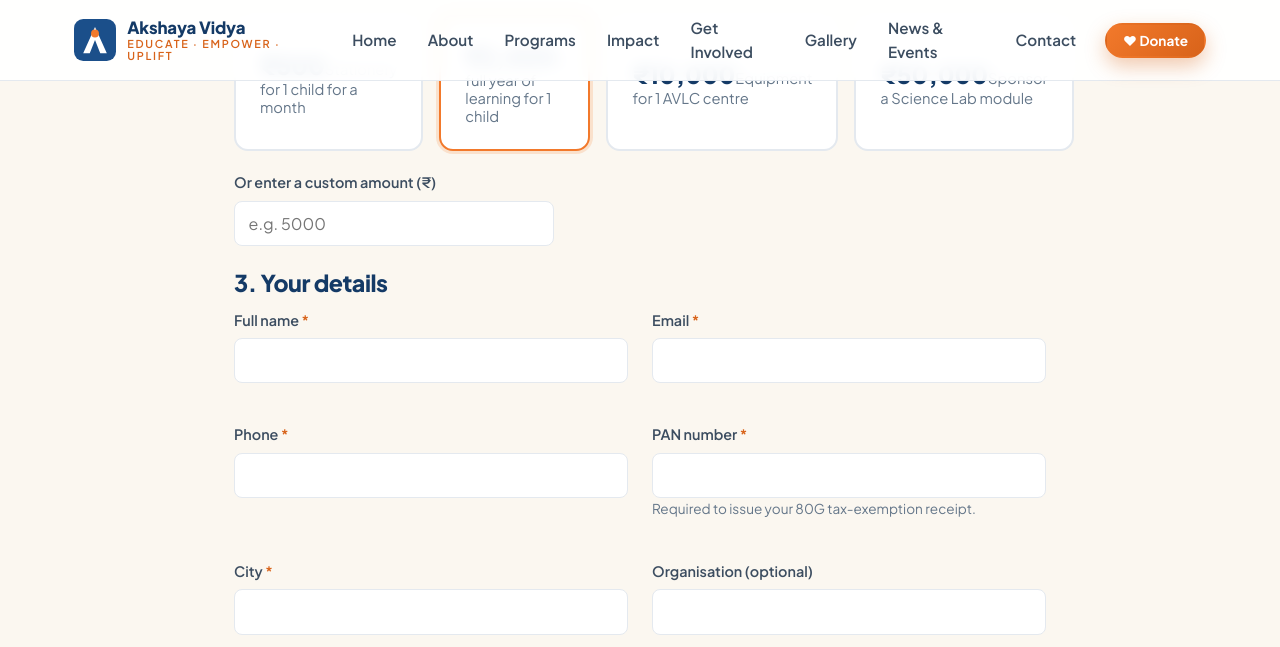
it: Donate page › requires a valid PAN before completing the donation (DON-05)
(page scrolled)
Type "Asha Rao" into the field labelled "Full name *" at (431, 361), box [234,338,628,384]
(page scrolled)
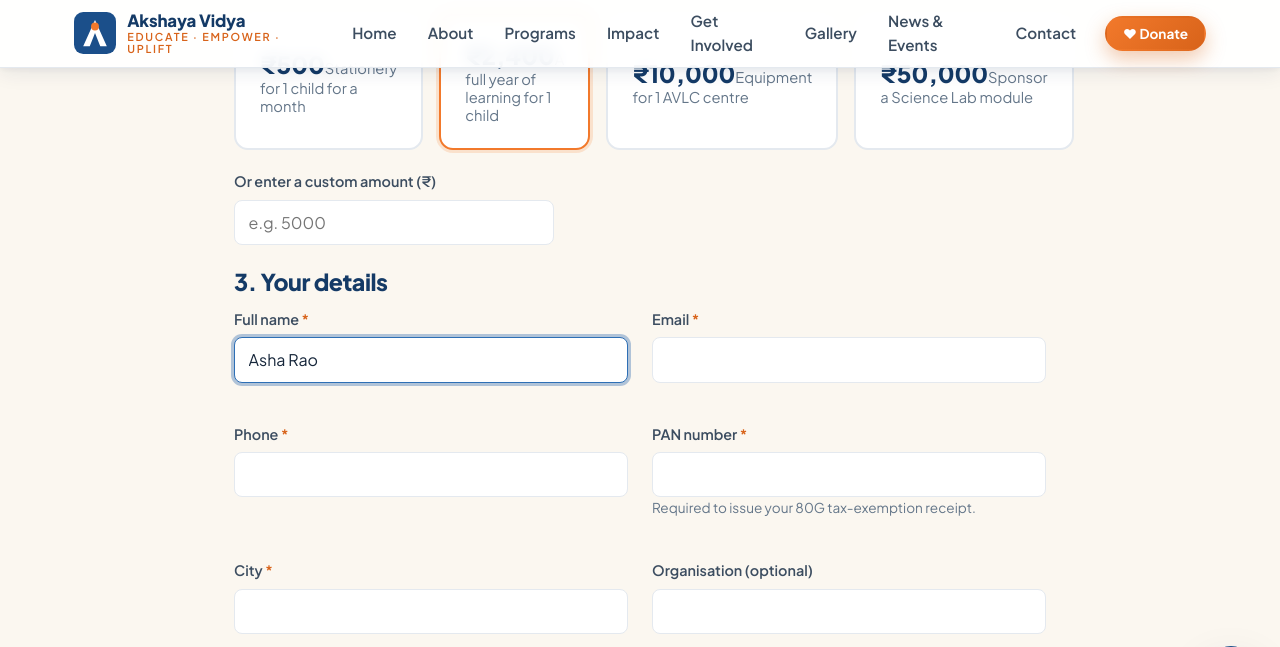
Type "asha@example.com" into the field labelled "Email *" at (849, 360), box [652,337,1046,383]
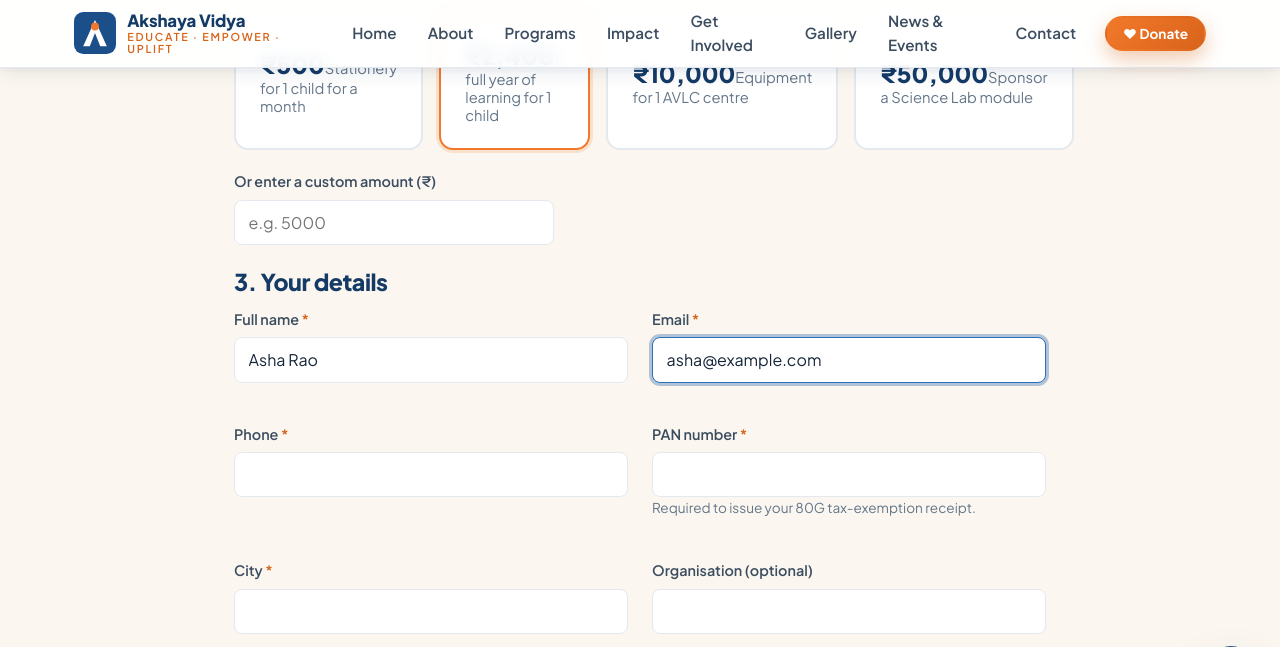
Type "9876543210" into the field labelled "Phone *" at (431, 475), box [234,452,628,498]
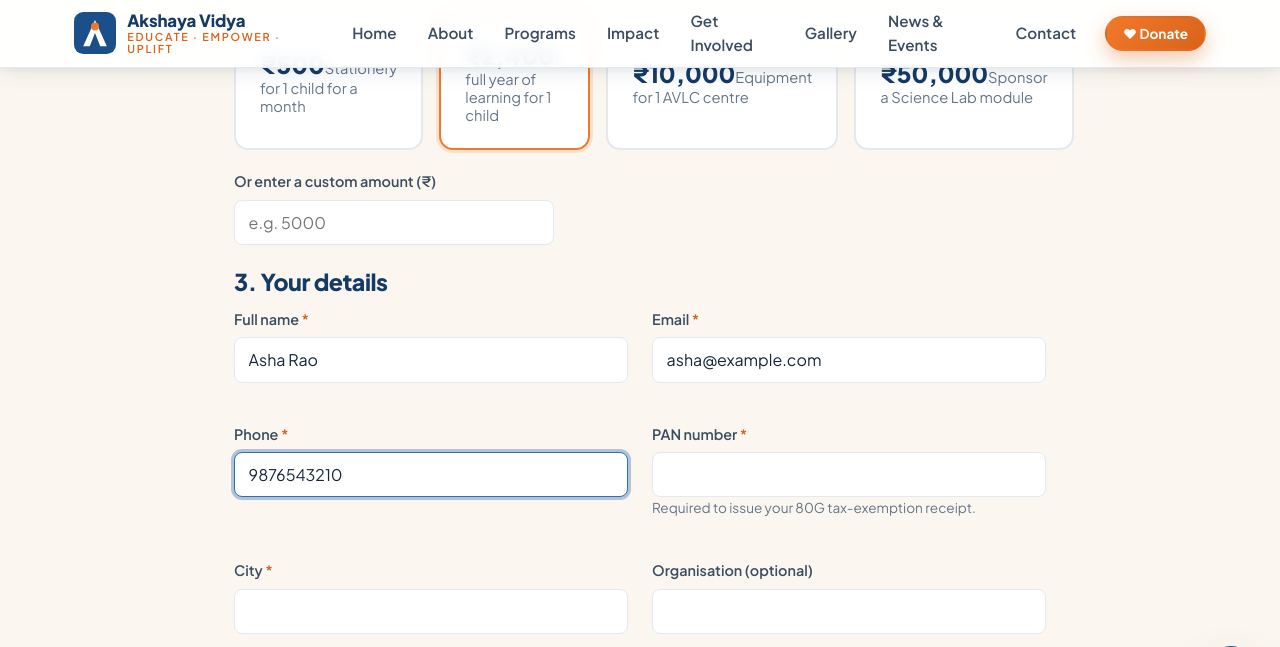
Type "BAD" into the field labelled "PAN number *" at (849, 475), box [652,452,1046,498]
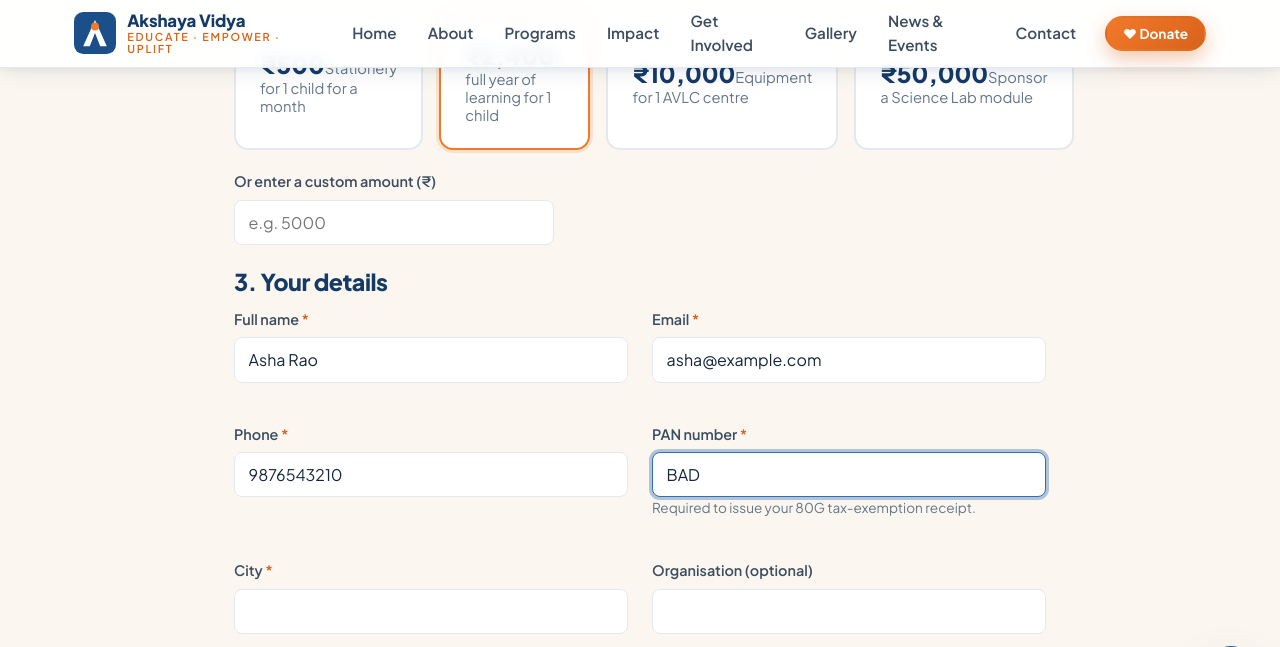
Type "Hyderabad" into the field labelled "City *" at (431, 611), box [234,589,628,634]
(page scrolled)
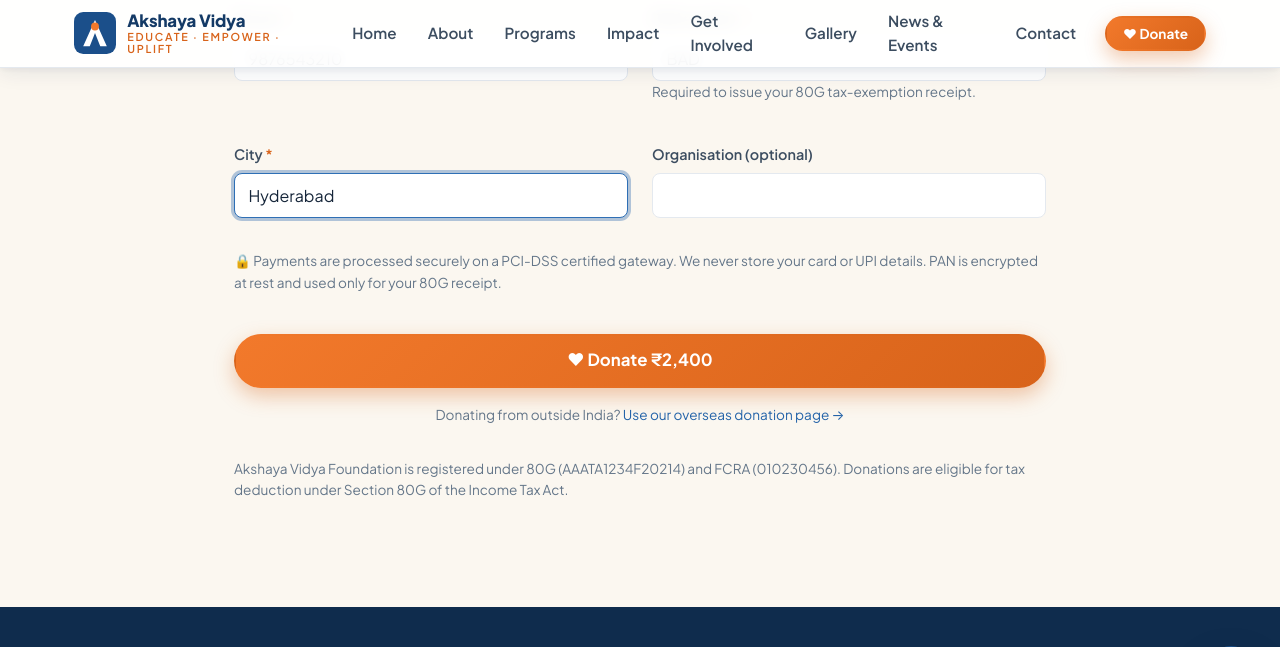
Click the button "❤ Donate ₹2,400" at (640, 361), box [234,334,1046,388]
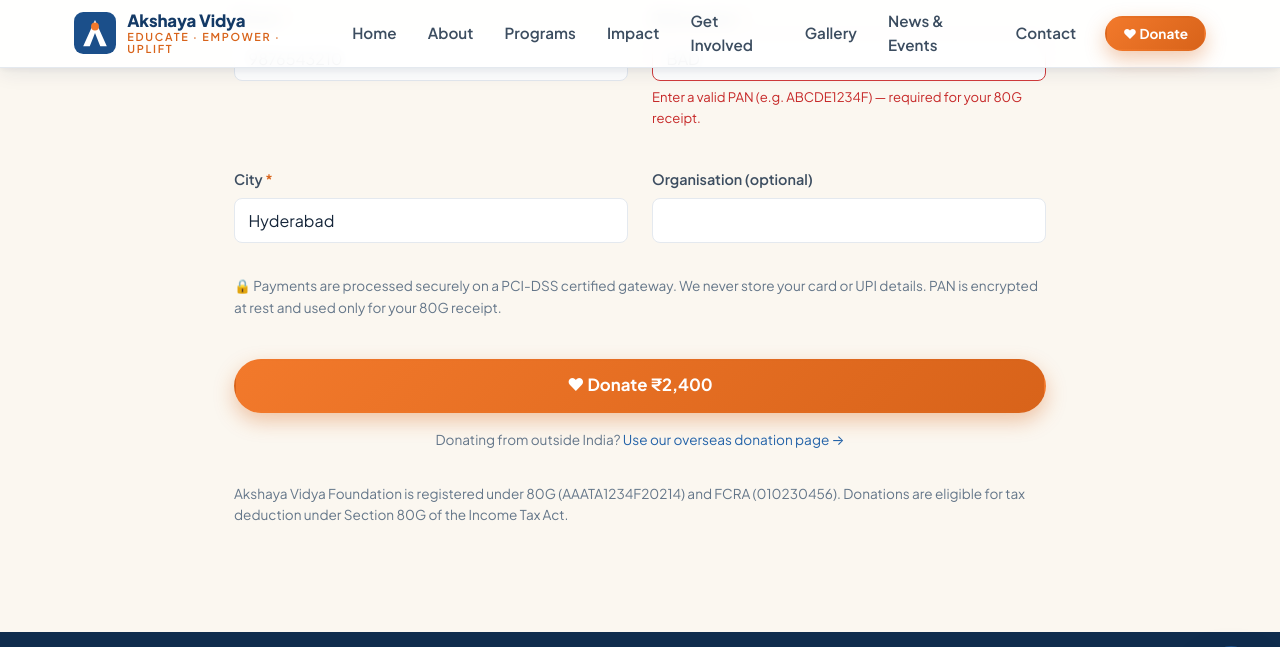
Now the text "Enter a valid PAN (e.g. ABCDE1234F) — required for your 80G receipt." is shown, box [652,86,1046,128]
